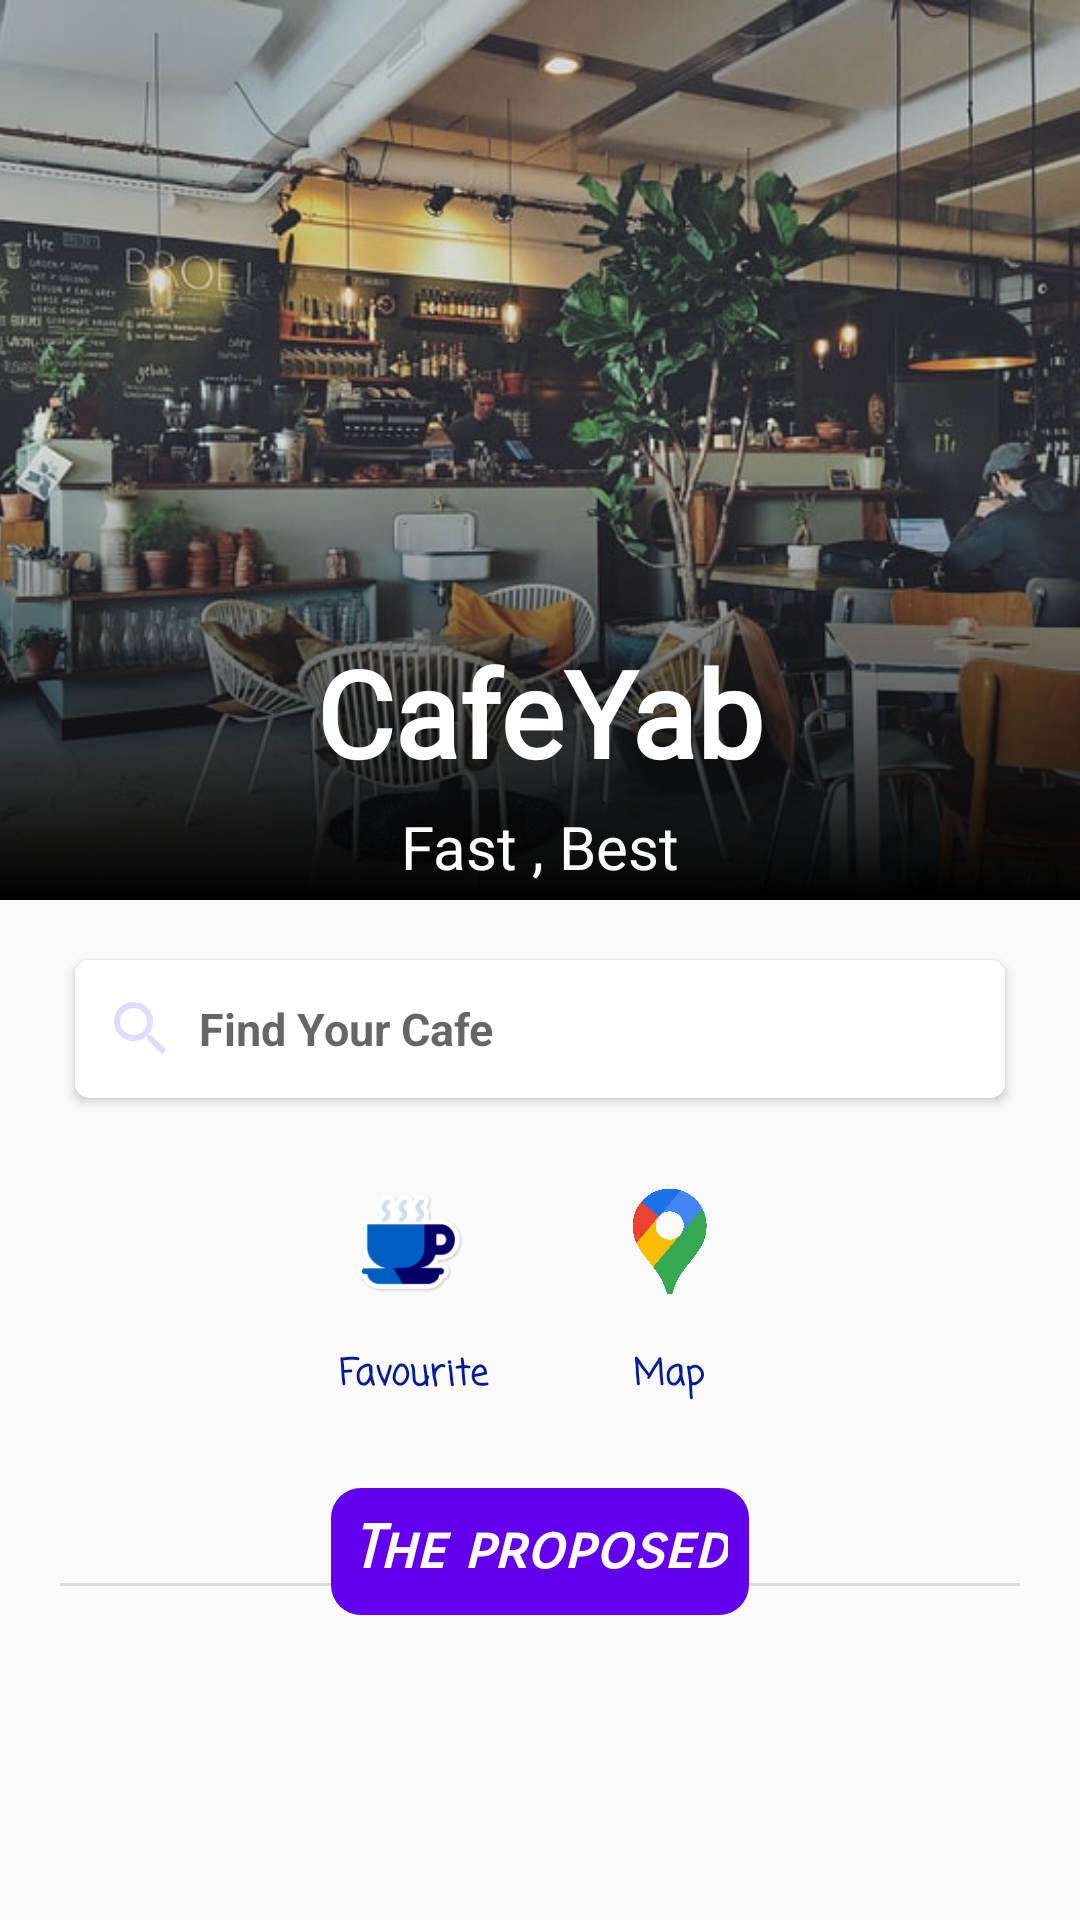

Where icons sit on this 1080x1920 app screen, as rect(x1, y1, x2, y2):
favcafe: rect(361, 1200, 461, 1290)
